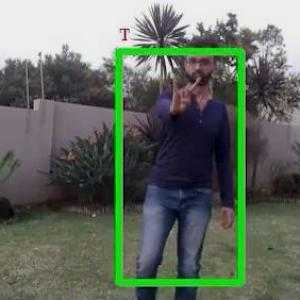takeoff-hand: (161, 66, 205, 115)
